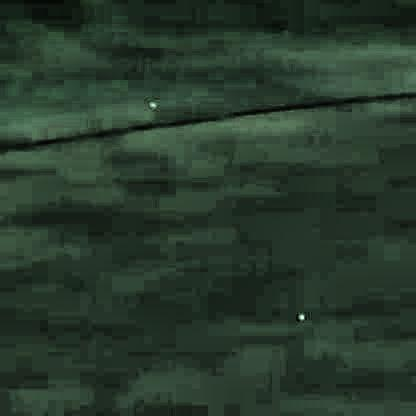golfball: (295, 311, 305, 318)
